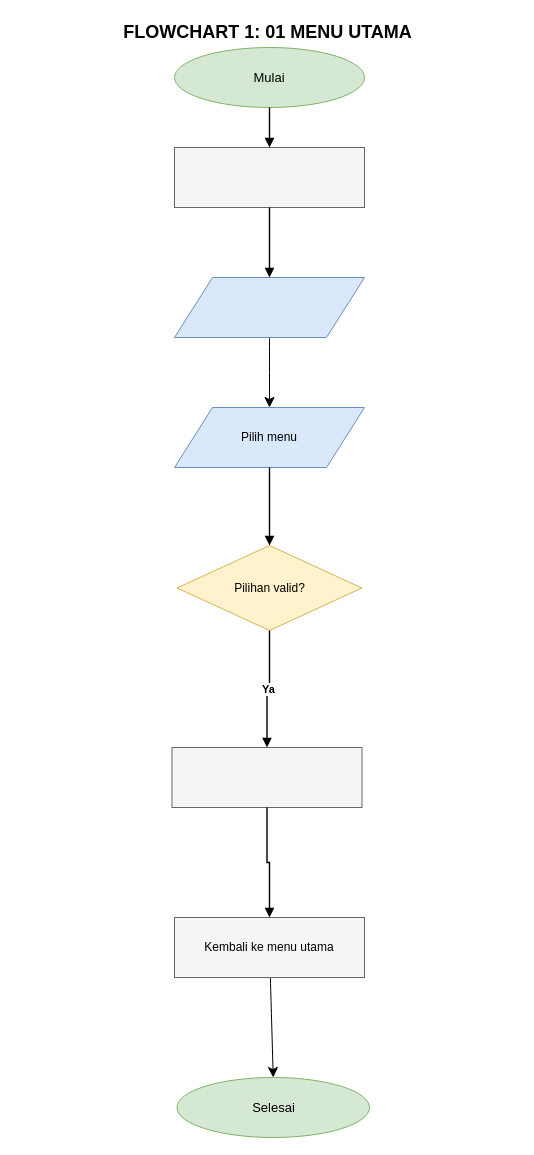
Image size: 534x1155. Some labels were removed from this diagram. The shapes that lost their labels are listed below. From the top down, each one's box as (x1, y1, x2, y2) in pixels, then its label:
(174, 146, 364, 208): Siapkan daftar buku
(174, 276, 364, 338): Tampilkan menu utama
(171, 746, 362, 808): Jalankan fitur sesuai pilihan
